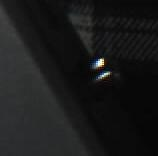screw: (72, 53, 123, 97)
